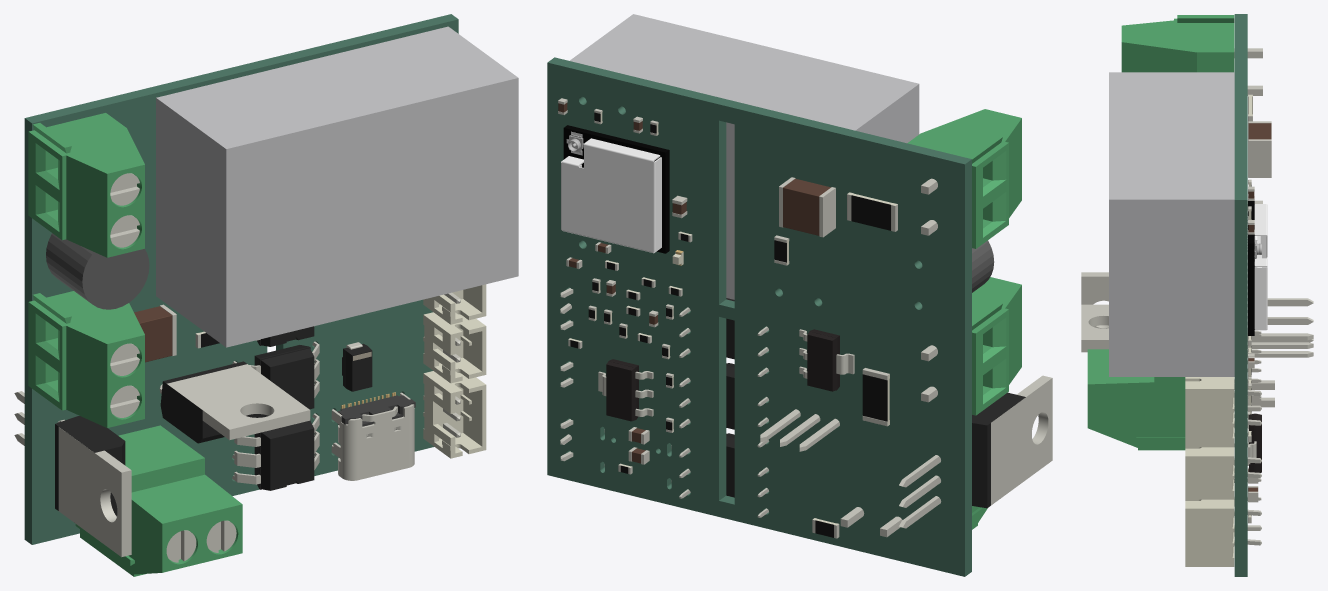
The model's file is board.glb.
3 views of the same model, side by side, from view 1: azimuth 30°, elevation 25°; view 2: azimuth 150°, elevation 25°; view 3: azimuth 270°, elevation 25° (orthographic). The views are drawn at different scales.
Visible parts, largest first — view 1: PS1, =>[0:1:1:36], =>[0:1:1:3]_1_646a58, =>[0:1:1:21]_dc24da, =>[0:1:1:3]_8fa763, =>[0:1:1:5]_1_6de505, =>[0:1:1:5]_78daa2, F1, =>[0:1:1:11]_0c2012, =>[0:1:1:13]_00ac53, =>[0:1:1:9]_b1708e, =>[0:1:1:7]_1_718c7b (+11 smaller); view 2: =>[0:1:1:36], PS1, =>[0:1:1:35]_62347a, =>[0:1:1:3]_1_646a58, =>[0:1:1:5]_1_6de505, =>[0:1:1:3]_8fa763, =>[0:1:1:5]_1_3f9033, =>[0:1:1:17]_1_b91e44, =>[0:1:1:35]_2b6b7a, =>[0:1:1:31]_1_9e44da, =>[0:1:1:31]_b600c7, =>[0:1:1:5]_78daa2 (+7 smaller); view 3: PS1, =>[0:1:1:36], =>[0:1:1:21]_dc24da, =>[0:1:1:3]_1_646a58, =>[0:1:1:13]_1_9b6fd5, =>[0:1:1:13]_00ac53, =>[0:1:1:9]_b1708e, =>[0:1:1:5]_78daa2, =>[0:1:1:5]_1_6de505, =>[0:1:1:35]_62347a, =>[0:1:1:17]_1, =>[0:1:1:35]_2b6b7a (+4 smaller).
Part boxes in pixels (x1,y1,x2,y2): PS1: [156, 26, 518, 347]; =>[0:1:1:36]: [24, 14, 458, 544]; =>[0:1:1:3]_1_646a58: [28, 113, 144, 257]; =>[0:1:1:21]_dc24da: [75, 425, 242, 576]; =>[0:1:1:3]_8fa763: [28, 291, 144, 427]; =>[0:1:1:5]_1_6de505: [14, 391, 131, 557]; =>[0:1:1:5]_78daa2: [159, 364, 310, 440]; F1: [46, 233, 149, 309]; =>[0:1:1:11]_0c2012: [331, 392, 414, 480]; =>[0:1:1:13]_00ac53: [423, 371, 486, 458]; =>[0:1:1:9]_b1708e: [423, 312, 486, 383]; =>[0:1:1:7]_1_718c7b: [254, 419, 314, 490]; =>[0:1:1:36]: [547, 57, 971, 576]; PS1: [569, 14, 919, 299]; =>[0:1:1:35]_62347a: [561, 138, 661, 253]; =>[0:1:1:3]_1_646a58: [907, 109, 1021, 248]; =>[0:1:1:5]_1_6de505: [899, 375, 1052, 528]; =>[0:1:1:3]_8fa763: [972, 277, 1021, 415]; =>[0:1:1:5]_1_3f9033: [972, 392, 1025, 508]; =>[0:1:1:17]_1_b91e44: [783, 178, 830, 235]; =>[0:1:1:35]_2b6b7a: [563, 125, 669, 253]; =>[0:1:1:31]_1_9e44da: [807, 329, 839, 391]; =>[0:1:1:31]_b600c7: [606, 359, 638, 421]; =>[0:1:1:5]_78daa2: [760, 409, 839, 451]; PS1: [1109, 72, 1234, 376]; =>[0:1:1:36]: [1234, 14, 1247, 576]; =>[0:1:1:21]_dc24da: [1087, 349, 1185, 450]; =>[0:1:1:3]_1_646a58: [1121, 15, 1234, 72]; =>[0:1:1:13]_1_9b6fd5: [1185, 377, 1234, 447]; =>[0:1:1:13]_00ac53: [1185, 499, 1234, 566]; =>[0:1:1:9]_b1708e: [1185, 447, 1234, 499]; =>[0:1:1:5]_78daa2: [1081, 304, 1313, 357]; =>[0:1:1:5]_1_6de505: [1081, 272, 1313, 352]; =>[0:1:1:35]_62347a: [1254, 204, 1267, 330]; =>[0:1:1:17]_1: [1248, 121, 1271, 177]; =>[0:1:1:35]_2b6b7a: [1248, 201, 1254, 335].
Size of the model in its own units: 54.48 by 51.48 by 28.52.
